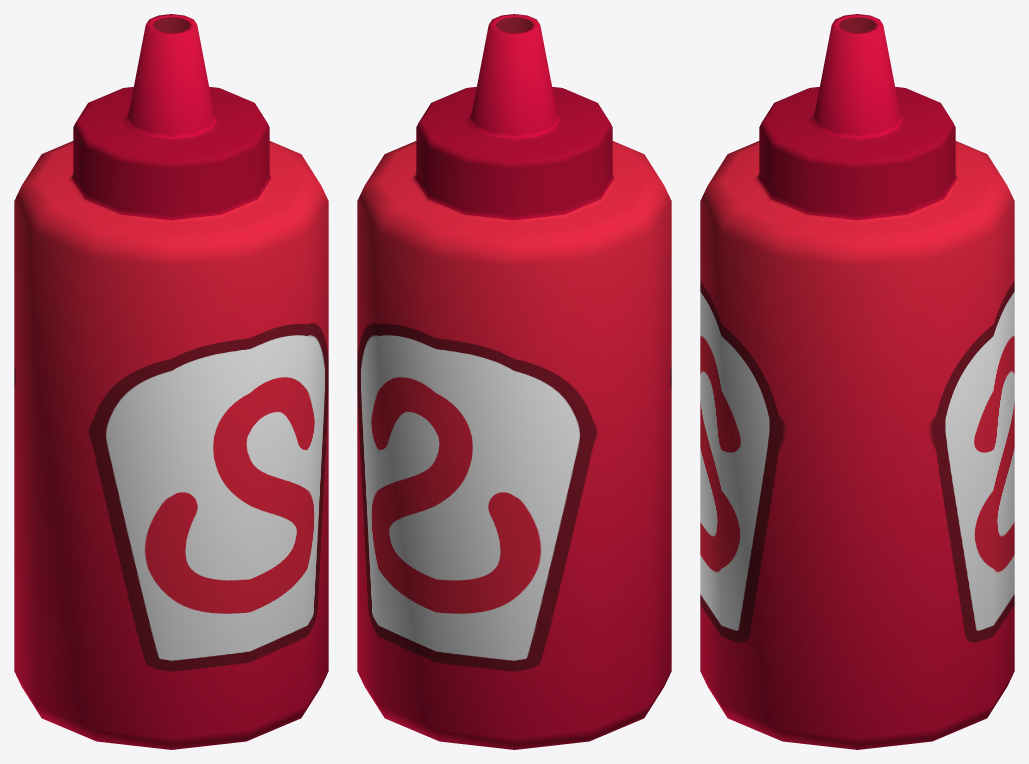
The model's file is Ketchup.fbx.
3 renders of one model, left to right at view 1: azimuth 30°, elevation 25°; view 2: azimuth 150°, elevation 25°; view 3: azimuth 270°, elevation 25°, orthographic.
Parts seen in each view (by area): view 1: Ketchup; view 2: Ketchup; view 3: Ketchup.
Part boxes in pixels (<box>): Ketchup: <box>14,14,328,749</box>; Ketchup: <box>357,14,671,749</box>; Ketchup: <box>700,14,1014,749</box>.
Size of the model in its own units: 7.61 by 17.87 by 7.61.
